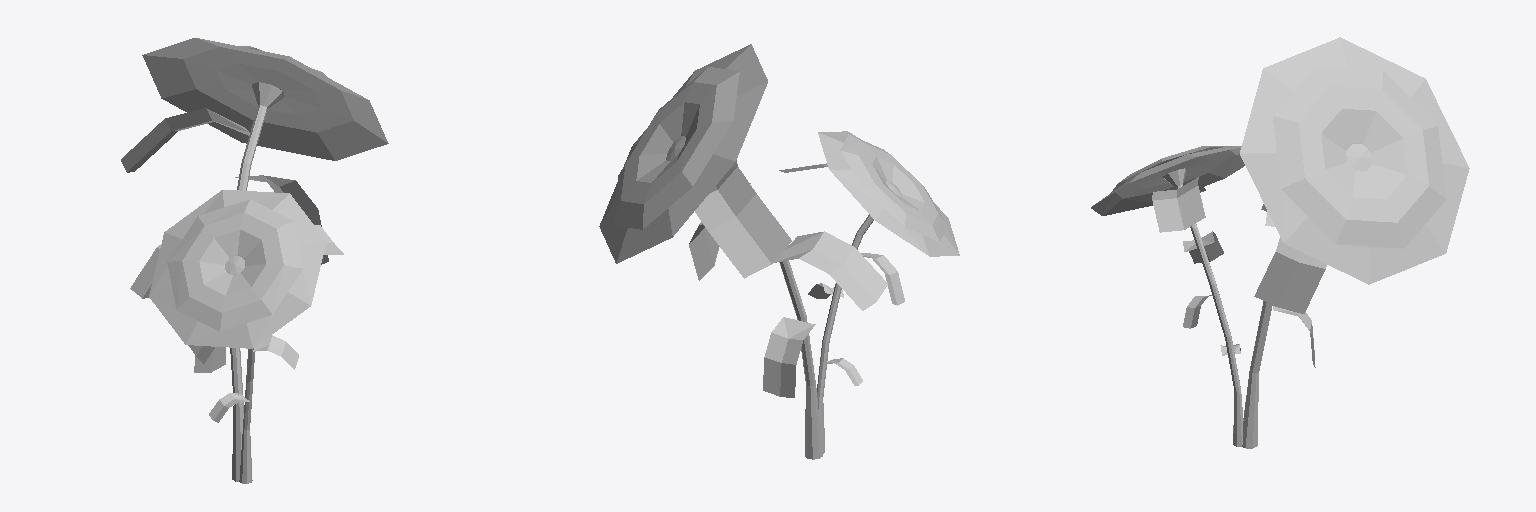
The model's file is FlowerA_03.obj.
The picture shows the model from 3 angles: view 1: azimuth 30°, elevation 25°; view 2: azimuth 150°, elevation 25°; view 3: azimuth 270°, elevation 25°; orthographic projection.
Visible parts, largest first — view 1: FlowerA_03_FlowerA_03_LOD0.000; view 2: FlowerA_03_FlowerA_03_LOD0.000; view 3: FlowerA_03_FlowerA_03_LOD0.000.
Part boxes in pixels (left/top/right/bottom): FlowerA_03_FlowerA_03_LOD0.000: left=121, top=38, right=388, bottom=483; FlowerA_03_FlowerA_03_LOD0.000: left=599, top=44, right=959, bottom=459; FlowerA_03_FlowerA_03_LOD0.000: left=1091, top=37, right=1469, bottom=448.
Bounding box in the file's own units: 0.4199 × 0.6086 × 0.5132.